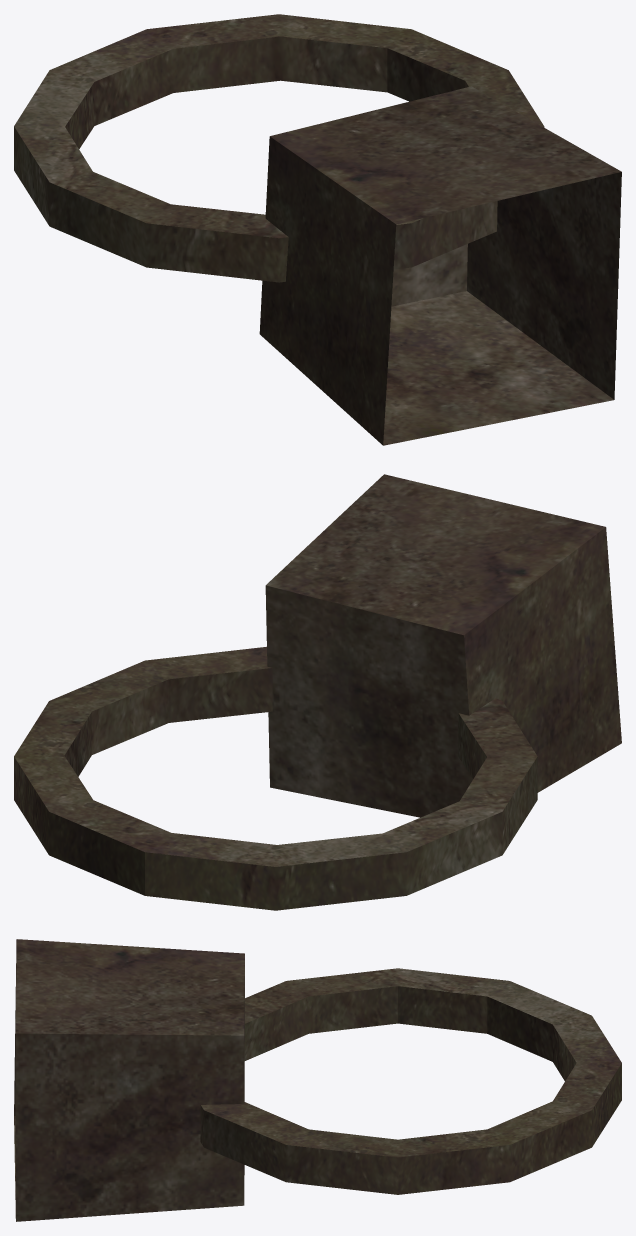
Rendered from TI_PaddleHinge.fbx.
The picture shows the model from 3 angles, top to bottom: view 1: azimuth 30°, elevation 25°; view 2: azimuth 150°, elevation 25°; view 3: azimuth 270°, elevation 25°; orthographic projection. The views are drawn at different scales.
Parts seen in each view (by area): view 1: TI_PaddleHinge; view 2: TI_PaddleHinge; view 3: TI_PaddleHinge.
Boxes of the visible parts, left/top/right/bottom form: TI_PaddleHinge: left=14, top=14, right=621, bottom=445; TI_PaddleHinge: left=14, top=474, right=621, bottom=910; TI_PaddleHinge: left=14, top=939, right=621, bottom=1221.
Bounding box in the file's own units: 0.2159 × 0.1026 × 0.2931.
